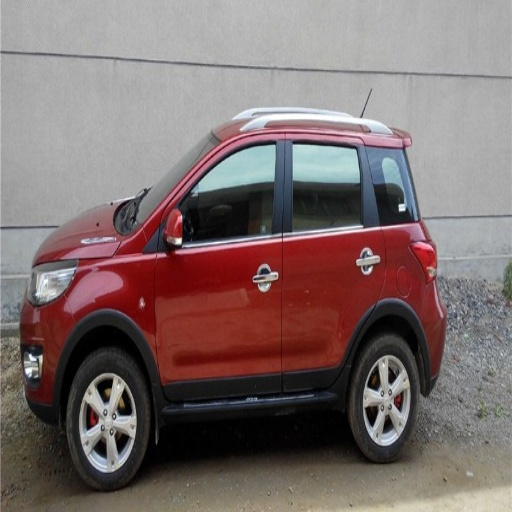back_left_door: (285, 133, 383, 393)
front_left_door: (155, 134, 284, 400)
